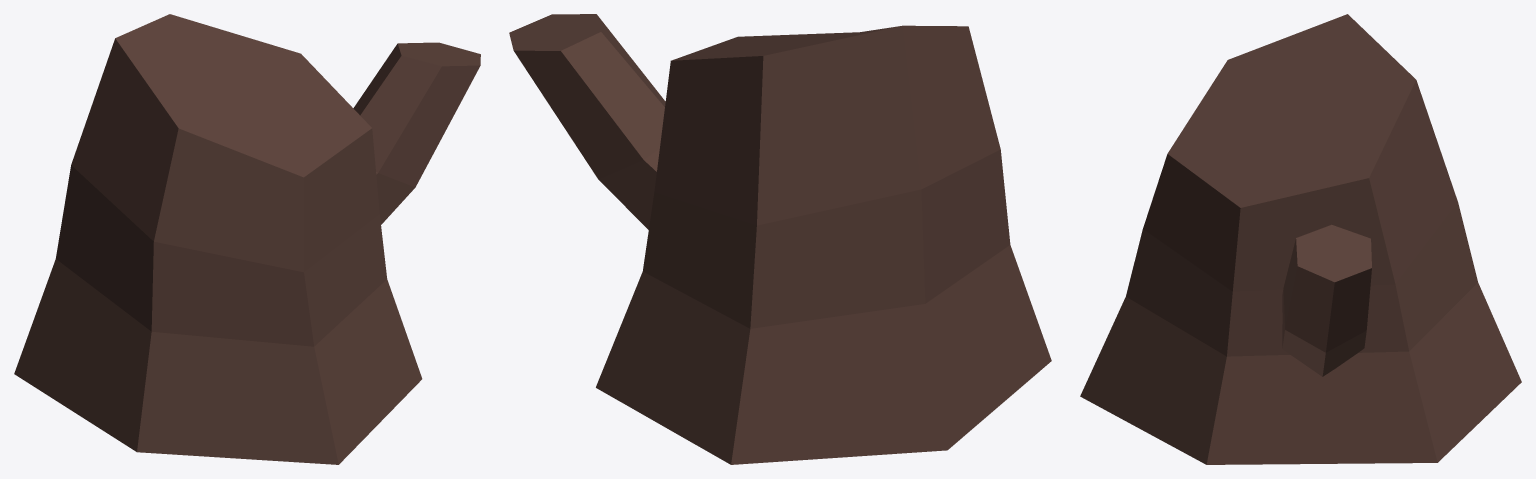
The model's file is Tree trunk 2.fbx.
3 renders of one model, left to right at view 1: azimuth 30°, elevation 25°; view 2: azimuth 150°, elevation 25°; view 3: azimuth 270°, elevation 25°, orthographic. The views are drawn at different scales.
Visible parts, largest first — view 1: Tree Trunk 2; view 2: Tree Trunk 2; view 3: Tree Trunk 2.
Part boxes in pixels (<box>): Tree Trunk 2: <box>14,14,480,464</box>; Tree Trunk 2: <box>509,14,1051,464</box>; Tree Trunk 2: <box>1080,14,1521,464</box>.
Bounding box in the file's own units: 1.25 × 0.9664 × 1.14.
